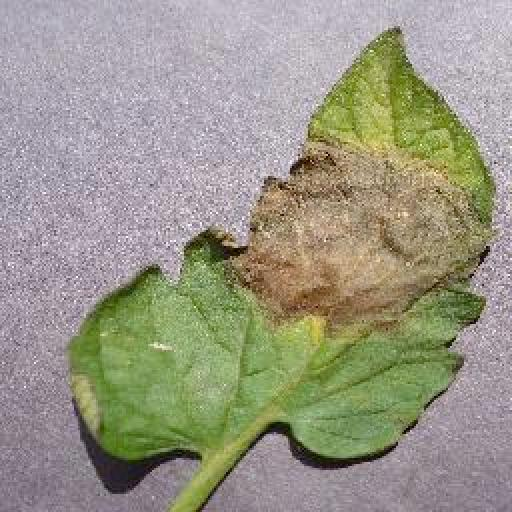disease_tomato: (68, 23, 494, 461)
